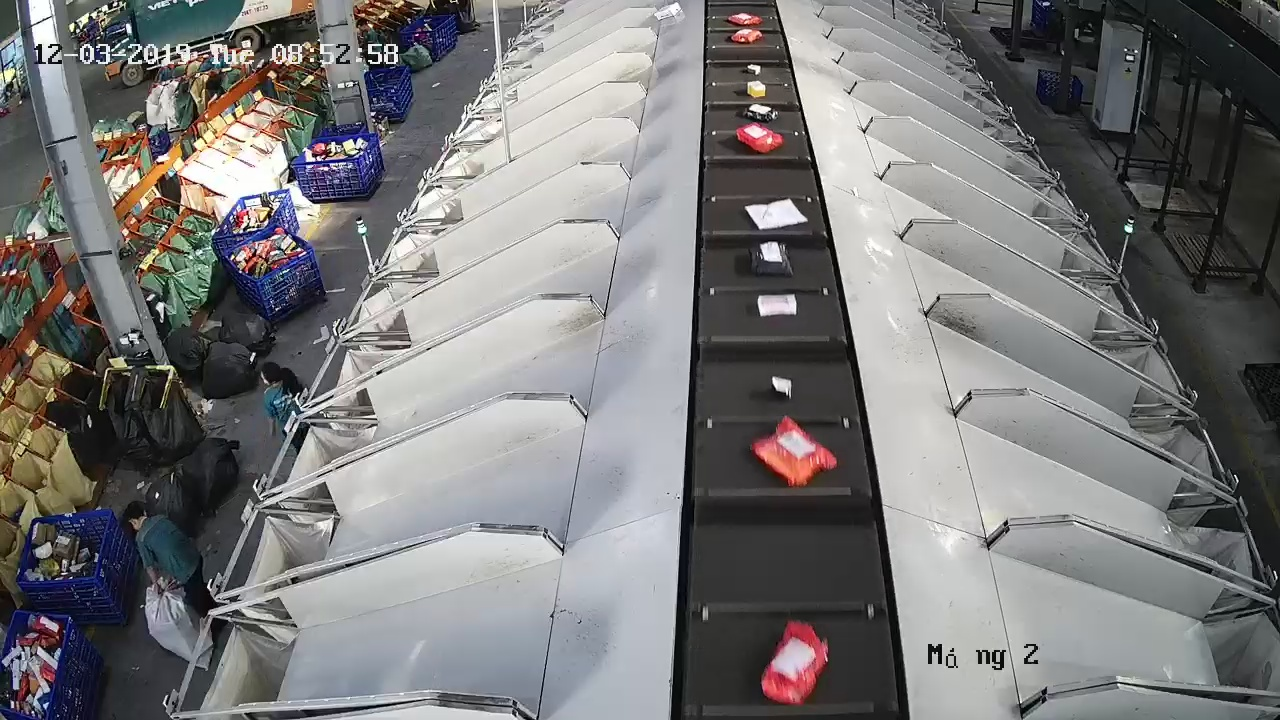parcel: (748, 414, 839, 488), (759, 618, 830, 705), (743, 195, 809, 231), (747, 240, 795, 279), (735, 121, 786, 155), (755, 292, 799, 318), (770, 373, 793, 401)
